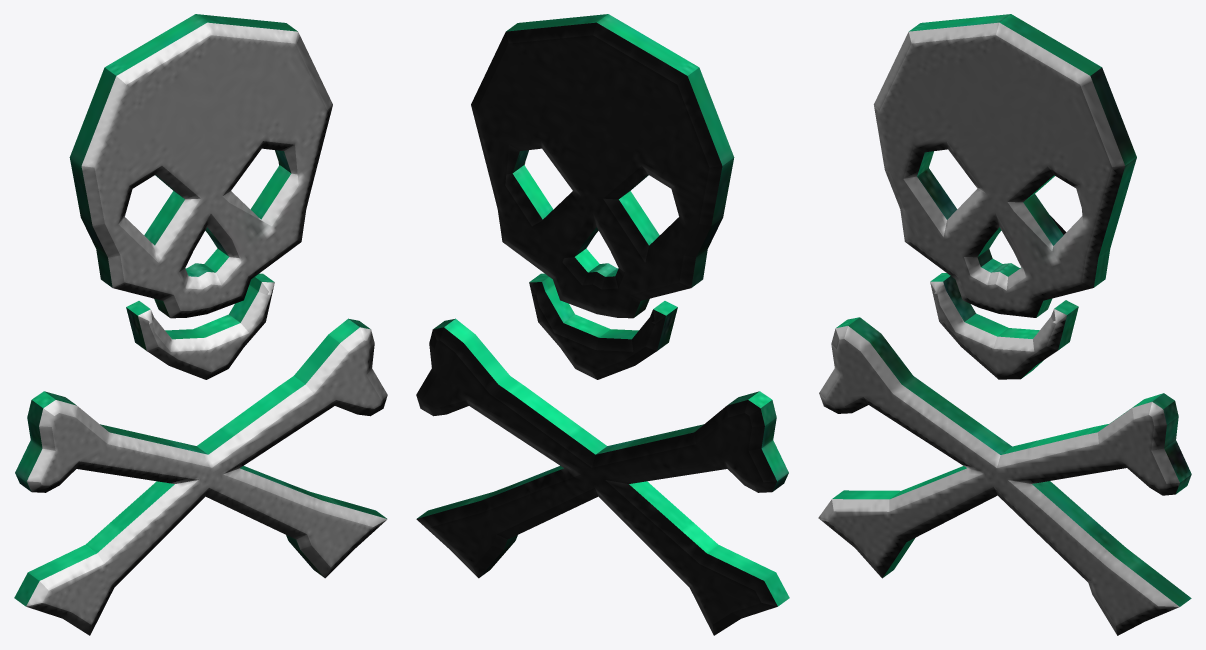
File: dead2.obj
The picture shows the model from 3 angles, left to right: view 1: azimuth 30°, elevation 25°; view 2: azimuth 150°, elevation 25°; view 3: azimuth 330°, elevation 25°; orthographic projection.
Parts seen in each view (by area): view 1: Text003; view 2: Text003; view 3: Text003.
Part boxes in pixels (box(x1,y1,x2,y2)): Text003: box(14, 14, 387, 635); Text003: box(416, 14, 789, 635); Text003: box(818, 14, 1191, 635).
Bounding box in the file's own units: 17.72 × 27.36 × 1.62.
1 material, 1 textured.
